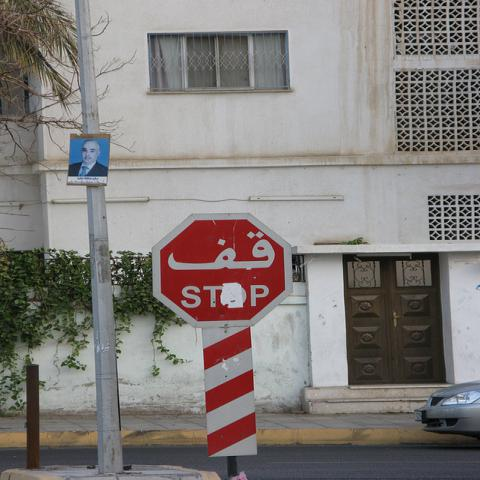car: (416, 381, 479, 439)
